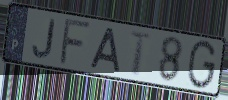8: (157, 35, 184, 85)
A: (87, 26, 122, 74)
F: (57, 18, 94, 68)
G: (185, 39, 218, 92)
J: (31, 17, 58, 60)
T: (128, 29, 153, 79)
